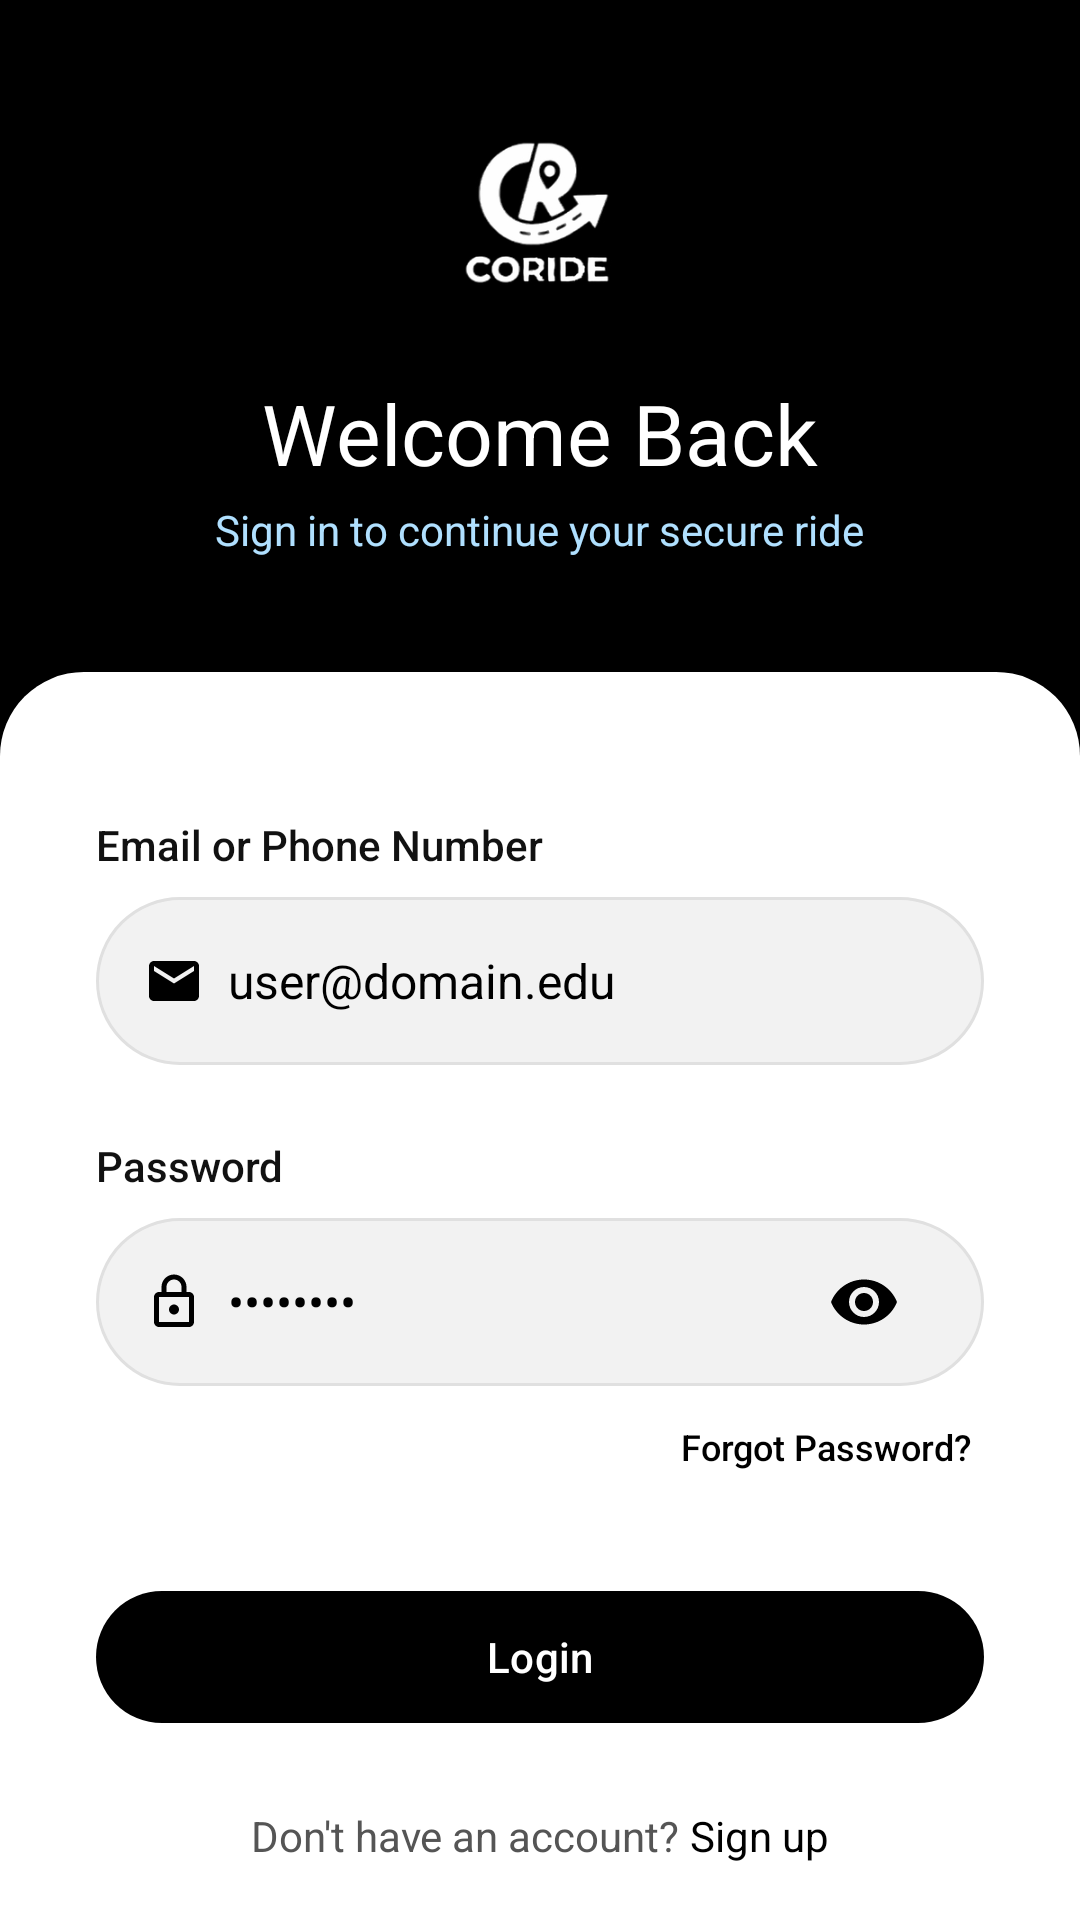

Point at icon controls on the screen. Image size 1080w x 1920h, points as (x,y).
lock: (174,1300)
Show/Hide Password: (864,1302)
